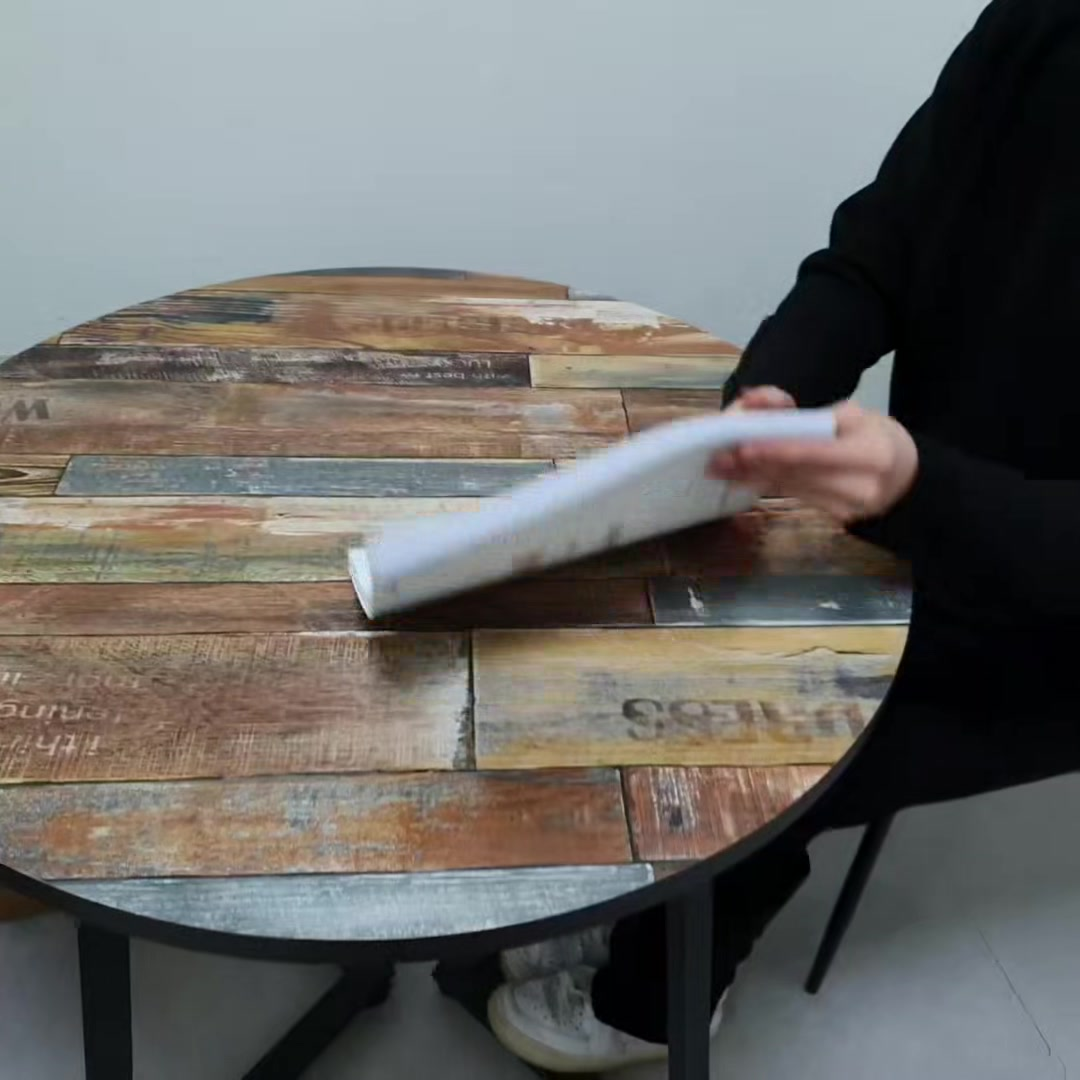book: (327, 381, 878, 648)
